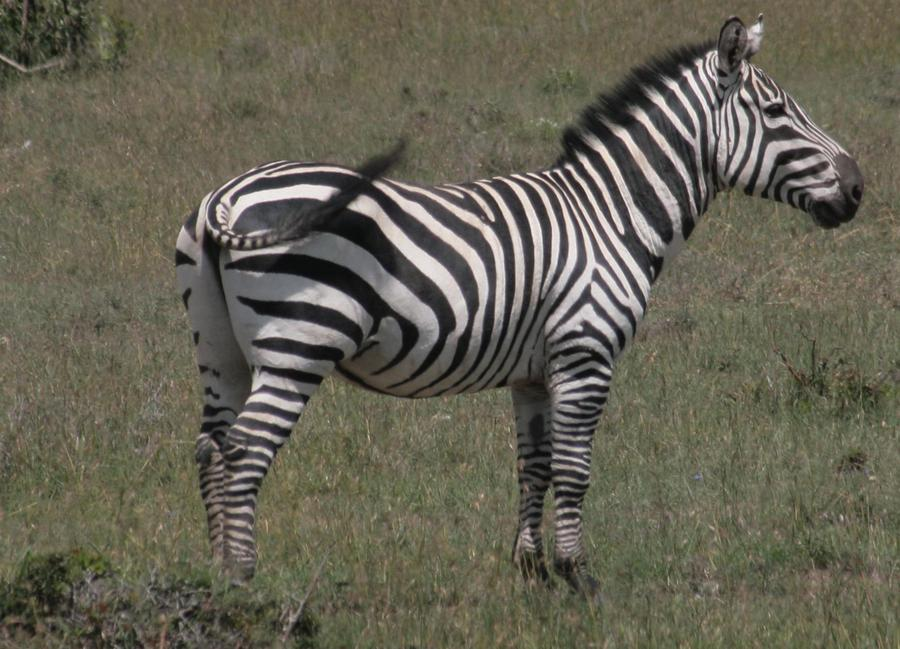zebra_plains: (213, 129, 654, 435)
